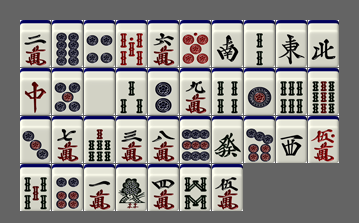0m: (308, 116, 339, 163)
0p: (180, 20, 211, 67)
0s: (116, 20, 147, 67)
1m: (84, 164, 115, 211)
1p: (244, 68, 275, 115)
1s: (116, 164, 147, 211)
1z: (276, 20, 307, 67)
2m: (20, 20, 51, 67)
2p: (148, 68, 179, 115)
2s: (244, 20, 275, 67)
2z: (212, 20, 243, 67)
3m: (116, 116, 147, 163)
3p: (20, 116, 51, 163)
3s: (116, 68, 147, 115)
3z: (276, 116, 307, 163)
4m: (148, 164, 179, 211)
4p: (84, 20, 115, 67)
4s: (212, 68, 243, 115)
4z: (308, 20, 339, 67)
5m: (212, 164, 243, 211)
5p: (52, 68, 83, 115)
5s: (20, 164, 51, 211)
5z: (84, 68, 115, 115)
6m: (148, 20, 179, 67)
6p: (52, 164, 83, 211)
6s: (276, 68, 307, 115)
6z: (212, 116, 243, 163)
7m: (52, 116, 83, 163)
7p: (244, 116, 275, 163)
7s: (84, 116, 115, 163)
7z: (20, 68, 51, 115)
8m: (148, 116, 179, 163)
8p: (52, 20, 83, 67)
8s: (180, 164, 211, 211)
9m: (180, 68, 211, 115)
9p: (180, 116, 211, 163)
9s: (308, 68, 339, 115)
